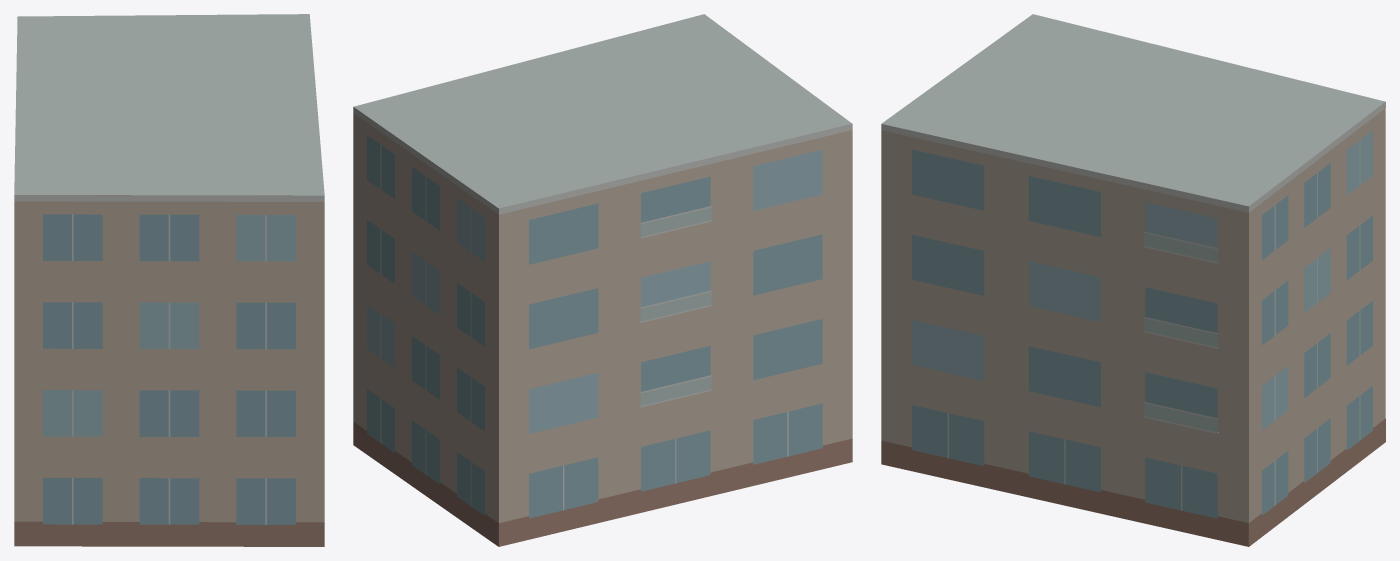
Rendered from survey-upis-32886231.glb.
3 renders of one model, left to right at view 1: azimuth 30°, elevation 25°; view 2: azimuth 150°, elevation 25°; view 3: azimuth 270°, elevation 25°, orthographic. The views are drawn at different scales.
Parts seen in each view (by area): view 1: survey-upis-32886231.tmp; view 2: survey-upis-32886231.tmp; view 3: survey-upis-32886231.tmp.
Part boxes in pixels (x1,y1,x2,y2): survey-upis-32886231.tmp: (14, 14, 324, 546); survey-upis-32886231.tmp: (353, 14, 852, 546); survey-upis-32886231.tmp: (881, 14, 1385, 546).
Size of the model in its own units: 16.01 by 13.2 by 17.74.
